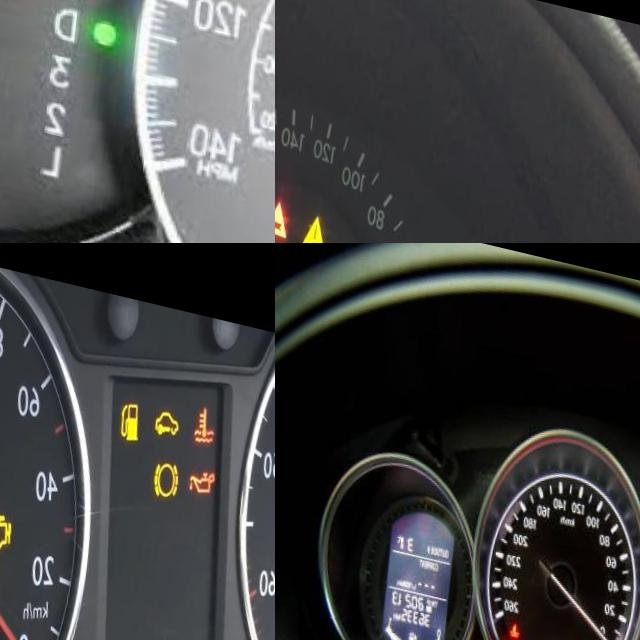Central Warning lamp: (307, 199, 334, 241)
Engine cooling system: (195, 385, 219, 428), (513, 604, 533, 629)
